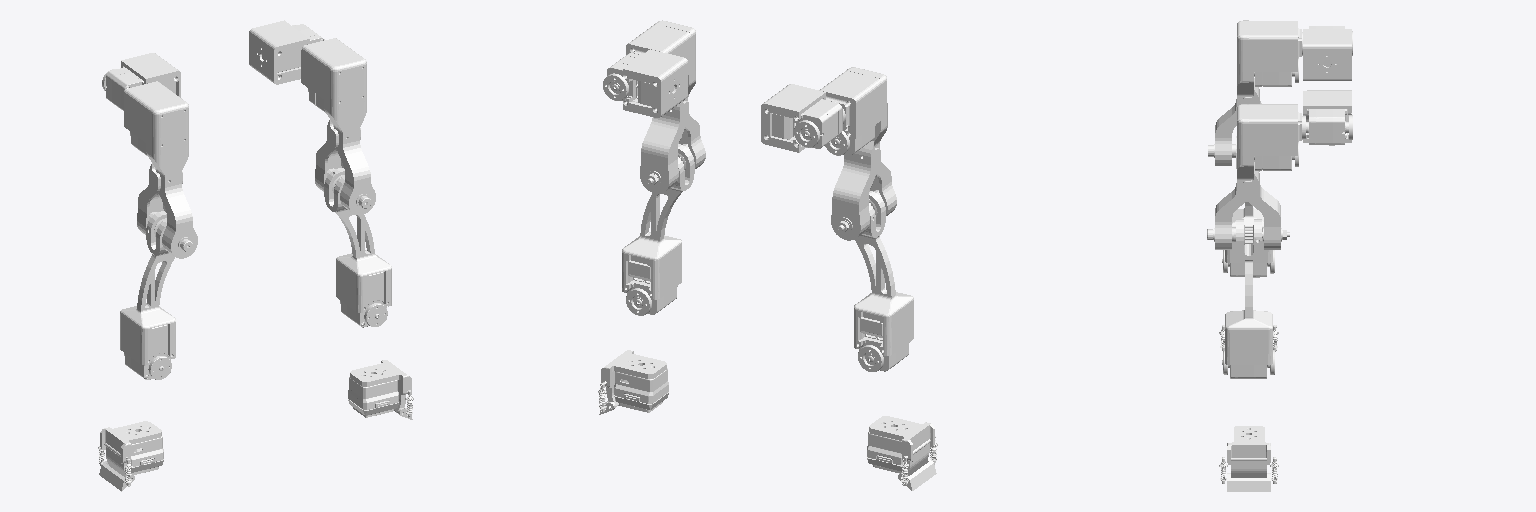
URDF robot description (five_link_grasper):
<?xml version="1.0" encoding="utf-8"?>
<!-- This URDF was automatically created by SolidWorks to URDF Exporter! Originally created by Stephen Brawner (brawner@gmail.com) 
     Commit Version: 1.6.0-4-g7f85cfe  Build Version: 1.6.7995.38578
     For more information, please see http://wiki.ros.org/sw_urdf_exporter -->
<robot
  name="five_link_grasper">
  <mujoco>
    <compiler meshdir="/home/ypf/five_link_grasper/meshes/" balanceinertia="true" discardvisual="false" />
  </mujoco>  
  <link
    name="base_link">
    <inertial>
      <origin
        xyz="0.00017903 1.5952E-05 -0.022982"
        rpy="0 0 0" />
      <mass
        value="0.16592" />
      <inertia
        ixx="7.4336E-05"
        ixy="-1.133E-07"
        ixz="-7.8132E-08"
        iyy="6.2755E-05"
        iyz="3.2894E-08"
        izz="4.8269E-05" />
    </inertial>
    <visual>
      <origin
        xyz="0 0 0"
        rpy="0 0 0" />
      <geometry>
        <mesh
          filename="package://five_link_grasper/meshes/base_link.STL" />
      </geometry>
      <material
        name="">
        <color
          rgba="0.30196 0.28627 0.28627 1" />
      </material>
    </visual>
    <collision>
      <origin
        xyz="0 0 0"
        rpy="0 0 0" />
      <geometry>
        <mesh
          filename="package://five_link_grasper/meshes/base_link.STL" />
      </geometry>
    </collision>
  </link>
  <link
    name="right_link1">
    <inertial>
      <origin
        xyz="-0.00010562 -0.0010206 0.021916"
        rpy="0 0 0" />
      <mass
        value="0.034422" />
      <inertia
        ixx="6.5934E-06"
        ixy="6.7162E-09"
        ixz="2.3276E-08"
        iyy="7.624E-06"
        iyz="5.2643E-08"
        izz="5.0471E-06" />
    </inertial>
    <visual>
      <origin
        xyz="0 0 0"
        rpy="0 0 0" />
      <geometry>
        <mesh
          filename="package://five_link_grasper/meshes/right_link1.STL" />
      </geometry>
      <material
        name="">
        <color
          rgba="1 1 1 1" />
      </material>
    </visual>
    <collision>
      <origin
        xyz="0 0 0"
        rpy="0 0 0" />
      <geometry>
        <mesh
          filename="package://five_link_grasper/meshes/right_link1.STL" />
      </geometry>
    </collision>
  </link>
  <joint
    name="right_joint1"
    type="revolute">
    <origin
      xyz="-0.041 0 -0.042183"
      rpy="0.30047 -1.57 -0.30037" />
    <parent
      link="base_link" />
    <child
      link="right_link1" />
    <axis
      xyz="0 0 1" />
    <limit
      lower="0"
      upper="0"
      effort="100"
      velocity="0" />
  </joint>
  <link
    name="right_link2">
    <inertial>
      <origin
        xyz="0.028139 0.00019003 0.032051"
        rpy="0 0 0" />
      <mass
        value="0.064321" />
      <inertia
        ixx="9.018E-06"
        ixy="-4.8423E-08"
        ixz="-2.9768E-06"
        iyy="3.7474E-05"
        iyz="-4.9295E-09"
        izz="3.8219E-05" />
    </inertial>
    <visual>
      <origin
        xyz="0 0 0"
        rpy="0 0 0" />
      <geometry>
        <mesh
          filename="package://five_link_grasper/meshes/right_link2.STL" />
      </geometry>
      <material
        name="">
        <color
          rgba="1 1 1 1" />
      </material>
    </visual>
    <collision>
      <origin
        xyz="0 0 0"
        rpy="0 0 0" />
      <geometry>
        <mesh
          filename="package://five_link_grasper/meshes/right_link2.STL" />
      </geometry>
    </collision>
  </link>
  <joint
    name="right_joint2"
    type="revolute">
    <origin
      xyz="-2.5823E-05 -0.020245 0.037446"
      rpy="-1.5715 0 3.1416" />
    <parent
      link="right_link1" />
    <child
      link="right_link2" />
    <axis
      xyz="0 0 -1" />
    <limit
      lower="0"
      upper="0"
      effort="100"
      velocity="0" />
  </joint>
  <link
    name="right_link3">
    <inertial>
      <origin
        xyz="0.057995 -0.010691 -0.018595"
        rpy="0 0 0" />
      <mass
        value="0.059438" />
      <inertia
        ixx="7.7553E-06"
        ixy="4.9509E-06"
        ixz="-2.8229E-06"
        iyy="3.0093E-05"
        iyz="5.7045E-07"
        izz="3.1699E-05" />
    </inertial>
    <visual>
      <origin
        xyz="0 0 0"
        rpy="0 0 0" />
      <geometry>
        <mesh
          filename="package://five_link_grasper/meshes/right_link3.STL" />
      </geometry>
      <material
        name="">
        <color
          rgba="1 1 1 1" />
      </material>
    </visual>
    <collision>
      <origin
        xyz="0 0 0"
        rpy="0 0 0" />
      <geometry>
        <mesh
          filename="package://five_link_grasper/meshes/right_link3.STL" />
      </geometry>
    </collision>
  </link>
  <joint
    name="right_joint3"
    type="revolute">
    <origin
      xyz="0.093519 0.00016967 0.068509"
      rpy="0.000696 0.12478 8.6618E-05" />
    <parent
      link="right_link2" />
    <child
      link="right_link3" />
    <axis
      xyz="-0.12455 -9.912E-05 0.99221" />
    <limit
      lower="0"
      upper="0"
      effort="100"
      velocity="0" />
  </joint>
  <link
    name="right_link4">
    <inertial>
      <origin
        xyz="0.031309 7.9653E-05 -0.020438"
        rpy="0 0 0" />
      <mass
        value="0.023823" />
      <inertia
        ixx="5.894E-06"
        ixy="-2.3886E-08"
        ixz="5.2651E-09"
        iyy="4.9612E-06"
        iyz="-2.4585E-09"
        izz="3.0776E-06" />
    </inertial>
    <visual>
      <origin
        xyz="0 0 0"
        rpy="0 0 0" />
      <geometry>
        <mesh
          filename="package://five_link_grasper/meshes/right_link4.STL" />
      </geometry>
      <material
        name="">
        <color
          rgba="1 1 1 1" />
      </material>
    </visual>
    <collision>
      <origin
        xyz="0 0 0"
        rpy="0 0 0" />
      <geometry>
        <mesh
          filename="package://five_link_grasper/meshes/right_link4.STL" />
      </geometry>
    </collision>
  </link>
  <joint
    name="right_joint4"
    type="revolute">
    <origin
      xyz="0.10382 -0.016613 0.0065102"
      rpy="-0.0001075 -0.12482 0" />
    <parent
      link="right_link3" />
    <child
      link="right_link4" />
    <axis
      xyz="0 0 1" />
    <limit
      lower="0"
      upper="0"
      effort="100"
      velocity="0" />
  </joint>
  <link
    name="right_link5">
    <inertial>
      <origin
        xyz="0.0083424 -6.3219E-05 0.015985"
        rpy="0 0 0" />
      <mass
        value="0.014306" />
      <inertia
        ixx="1.7488E-06"
        ixy="-7.6641E-10"
        ixz="-3.5853E-07"
        iyy="2.0089E-06"
        iyz="4.0793E-10"
        izz="2.3331E-06" />
    </inertial>
    <visual>
      <origin
        xyz="0 0 0"
        rpy="0 0 0" />
      <geometry>
        <mesh
          filename="package://five_link_grasper/meshes/right_link5.STL" />
      </geometry>
      <material
        name="">
        <color
          rgba="1 1 1 1" />
      </material>
    </visual>
    <collision>
      <origin
        xyz="0 0 0"
        rpy="0 0 0" />
      <geometry>
        <mesh
          filename="package://five_link_grasper/meshes/right_link5.STL" />
      </geometry>
    </collision>
  </link>
  <joint
    name="right_joint5"
    type="revolute">
    <origin
      xyz="0.058205 -0.0084517 -0.020248"
      rpy="-1.5709 0.0001075 -1.5708" />
    <parent
      link="right_link4" />
    <child
      link="right_link5" />
    <axis
      xyz="-0.00078393 0 1" />
    <limit
      lower="0"
      upper="0"
      effort="100"
      velocity="0" />
  </joint>
  <link
    name="left_link1">
    <inertial>
      <origin
        xyz="-0.00024868 0.001027 0.021916"
        rpy="0 0 0" />
      <mass
        value="0.034422" />
      <inertia
        ixx="6.5935E-06"
        ixy="-1.1278E-09"
        ixz="1.9126E-08"
        iyy="7.624E-06"
        iyz="-5.3145E-08"
        izz="5.0472E-06" />
    </inertial>
    <visual>
      <origin
        xyz="0 0 0"
        rpy="0 0 0" />
      <geometry>
        <mesh
          filename="package://five_link_grasper/meshes/left_link1.STL" />
      </geometry>
      <material
        name="">
        <color
          rgba="1 1 1 1" />
      </material>
    </visual>
    <collision>
      <origin
        xyz="0 0 0"
        rpy="0 0 0" />
      <geometry>
        <mesh
          filename="package://five_link_grasper/meshes/left_link1.STL" />
      </geometry>
    </collision>
  </link>
  <joint
    name="left_joint1"
    type="revolute">
    <origin
      xyz="0.041 0 -0.042183"
      rpy="-0.061195 -1.57 -3.0803" />
    <parent
      link="base_link" />
    <child
      link="left_link1" />
    <axis
      xyz="0 0 1" />
    <limit
      lower="0"
      upper="0"
      effort="100"
      velocity="0" />
  </joint>
  <link
    name="left_link2">
    <inertial>
      <origin
        xyz="0.028147 0.00019069 0.032045"
        rpy="0 0 0" />
      <mass
        value="0.064321" />
      <inertia
        ixx="9.0167E-06"
        ixy="-8.1788E-09"
        ixz="-2.971E-06"
        iyy="3.7474E-05"
        iyz="9.4995E-10"
        izz="3.822E-05" />
    </inertial>
    <visual>
      <origin
        xyz="0 0 0"
        rpy="0 0 0" />
      <geometry>
        <mesh
          filename="package://five_link_grasper/meshes/left_link2.STL" />
      </geometry>
      <material
        name="">
        <color
          rgba="1 1 1 1" />
      </material>
    </visual>
    <collision>
      <origin
        xyz="0 0 0"
        rpy="0 0 0" />
      <geometry>
        <mesh
          filename="package://five_link_grasper/meshes/left_link2.STL" />
      </geometry>
    </collision>
  </link>
  <joint
    name="left_joint2"
    type="revolute">
    <origin
      xyz="-2.784E-05 0.020255 0.037441"
      rpy="1.5717 0 3.1416" />
    <parent
      link="left_link1" />
    <child
      link="left_link2" />
    <axis
      xyz="0 0 1" />
    <limit
      lower="0"
      upper="0"
      effort="100"
      velocity="0" />
  </joint>
  <link
    name="left_link3">
    <inertial>
      <origin
        xyz="0.055227 0.010611 -0.025581"
        rpy="0 0 0" />
      <mass
        value="0.059438" />
      <inertia
        ixx="7.4291E-06"
        ixy="-4.9876E-06"
        ixz="2.2315E-07"
        iyy="3.0093E-05"
        iyz="5.6224E-08"
        izz="3.2025E-05" />
    </inertial>
    <visual>
      <origin
        xyz="0 0 0"
        rpy="0 0 0" />
      <geometry>
        <mesh
          filename="package://five_link_grasper/meshes/left_link3.STL" />
      </geometry>
      <material
        name="">
        <color
          rgba="1 1 1 1" />
      </material>
    </visual>
    <collision>
      <origin
        xyz="0 0 0"
        rpy="0 0 0" />
      <geometry>
        <mesh
          filename="package://five_link_grasper/meshes/left_link3.STL" />
      </geometry>
    </collision>
  </link>
  <joint
    name="left_joint3"
    type="revolute">
    <origin
      xyz="0.093535 0.00012464 0.068491"
      rpy="-0.00078955 9.9743E-05 0" />
    <parent
      link="left_link2" />
    <child
      link="left_link3" />
    <axis
      xyz="0 0 1" />
    <limit
      lower="0"
      upper="0"
      effort="100"
      velocity="0" />
  </joint>
  <link
    name="left_link4">
    <inertial>
      <origin
        xyz="0.031309 -7.385E-05 -0.020058"
        rpy="0 0 0" />
      <mass
        value="0.023823" />
      <inertia
        ixx="5.894E-06"
        ixy="2.3887E-08"
        ixz="-4.9873E-09"
        iyy="4.9612E-06"
        iyz="-2.4774E-09"
        izz="3.0776E-06" />
    </inertial>
    <visual>
      <origin
        xyz="0 0 0"
        rpy="0 0 0" />
      <geometry>
        <mesh
          filename="package://five_link_grasper/meshes/left_link4.STL" />
      </geometry>
      <material
        name="">
        <color
          rgba="1 1 1 1" />
      </material>
    </visual>
    <collision>
      <origin
        xyz="0 0 0"
        rpy="0 0 0" />
      <geometry>
        <mesh
          filename="package://five_link_grasper/meshes/left_link4.STL" />
      </geometry>
    </collision>
  </link>
  <joint
    name="left_joint4"
    type="revolute">
    <origin
      xyz="0.10383 0.016616 -0.00647"
      rpy="-0.00020654 4.9254E-05 0" />
    <parent
      link="left_link3" />
    <child
      link="left_link4" />
    <axis
      xyz="0 0 1" />
    <limit
      lower="0"
      upper="0"
      effort="100"
      velocity="0" />
  </joint>
  <link
    name="left_link5">
    <inertial>
      <origin
        xyz="0.0083549 -6.4047E-05 0.015979"
        rpy="0 0 0" />
      <mass
        value="0.014306" />
      <inertia
        ixx="1.7482E-06"
        ixy="-7.4021E-10"
        ixz="-3.5807E-07"
        iyy="2.0089E-06"
        iyz="4.4398E-10"
        izz="2.3337E-06" />
    </inertial>
    <visual>
      <origin
        xyz="0 0 0"
        rpy="0 0 0" />
      <geometry>
        <mesh
          filename="package://five_link_grasper/meshes/left_link5.STL" />
      </geometry>
      <material
        name="">
        <color
          rgba="1 1 1 1" />
      </material>
    </visual>
    <collision>
      <origin
        xyz="0 0 0"
        rpy="0 0 0" />
      <geometry>
        <mesh
          filename="package://five_link_grasper/meshes/left_link5.STL" />
      </geometry>
    </collision>
  </link>
  <joint
    name="left_joint5"
    type="revolute">
    <origin
      xyz="0.058205 0.0084572 -0.020245"
      rpy="1.5706 -0.00020658 1.57" />
    <parent
      link="left_link4" />
    <child
      link="left_link5" />
    <axis
      xyz="0 0 1" />
    <limit
      lower="0"
      upper="0"
      effort="100"
      velocity="0" />
  </joint>
</robot>

--- What the picture shows (computed from the rendered views, not written in the file) ---
3 views of the same robot in one strip: view 1: azimuth 30°, elevation 25°; view 2: azimuth 150°, elevation 25°; view 3: azimuth 270°, elevation 25° (orthographic).
Model five_link_grasper with 11 links and 10 joints (10 revolute), rooted at base_link, posed every joint at zero.
Visible links, largest first — view 1: left_link2, right_link2, right_link3, left_link3, right_link5, left_link1, left_link5, right_link1; view 2: right_link2, right_link3, left_link3, left_link2, right_link1, left_link1, right_link5, left_link5; view 3: left_link2, right_link2, left_link3, left_link5, left_link1, right_link1, right_link3.
Link boxes in pixels (x1,y1,x2,y2): left_link2: [301, 38, 375, 214]; right_link2: [124, 81, 197, 258]; right_link3: [120, 211, 192, 379]; left_link3: [324, 168, 391, 327]; right_link5: [98, 421, 163, 491]; left_link1: [249, 20, 324, 84]; left_link5: [348, 360, 413, 419]; right_link1: [102, 53, 180, 110]; right_link2: [819, 67, 896, 240]; right_link3: [838, 191, 913, 371]; left_link3: [622, 144, 694, 315]; left_link2: [626, 20, 705, 193]; right_link1: [761, 84, 845, 152]; left_link1: [603, 49, 687, 117]; right_link5: [867, 416, 937, 490]; left_link5: [598, 350, 668, 414]; left_link2: [1215, 104, 1301, 249]; right_link2: [1215, 20, 1301, 165]; left_link3: [1207, 219, 1289, 378]; left_link5: [1219, 426, 1278, 491]; left_link1: [1302, 90, 1352, 145]; right_link1: [1302, 26, 1352, 80]; right_link3: [1208, 136, 1274, 277].
Size in the robot's own frame: 0.257 by 0.1155 by 0.3103 metres.
8 mesh visuals loaded from 11 distinct referenced files (8 binary STL); not drawn: 3 (reference not matched to a file when rendering).
